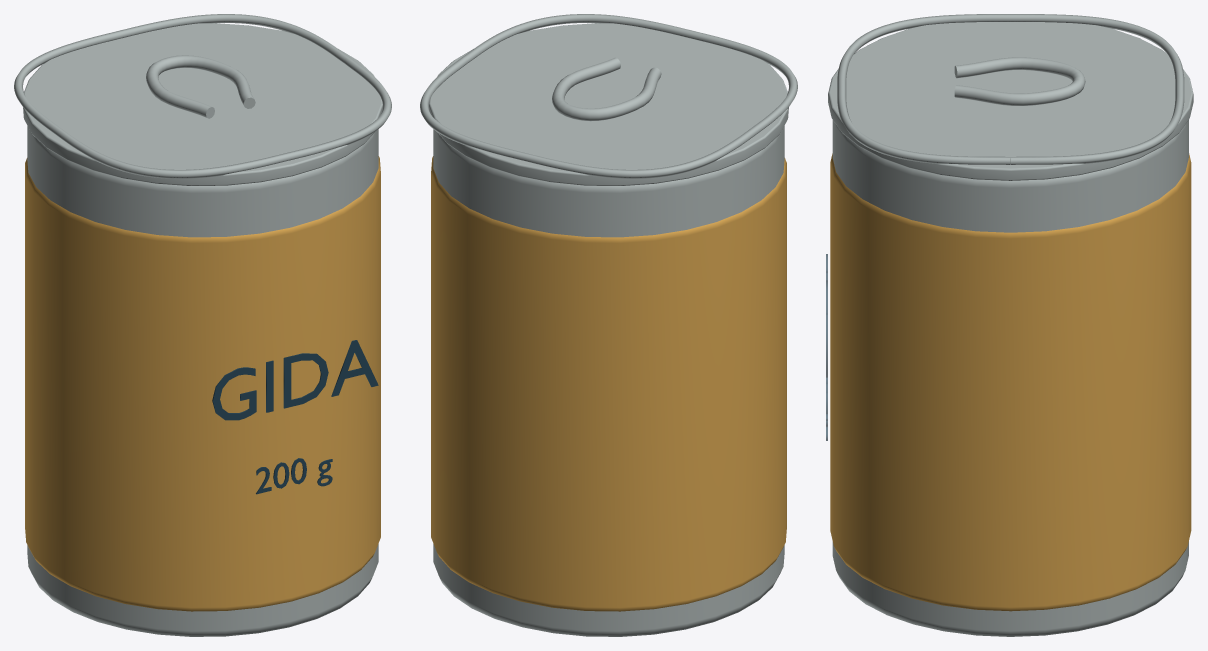
Rendered from FoodCan.fbx.
3 renders of one model, left to right at view 1: azimuth 30°, elevation 25°; view 2: azimuth 150°, elevation 25°; view 3: azimuth 270°, elevation 25°, orthographic.
Visible parts, largest first — view 1: Surface_KKTC_Ochre, Surface_KKTC_Metal, Surface_KKTC_BlueInk; view 2: Surface_KKTC_Ochre, Surface_KKTC_Metal; view 3: Surface_KKTC_Ochre, Surface_KKTC_Metal.
Part boxes in pixels (<box>): Surface_KKTC_Ochre: <box>25,156,380,611</box>; Surface_KKTC_Metal: <box>14,14,391,636</box>; Surface_KKTC_BlueInk: <box>212,340,378,494</box>; Surface_KKTC_Ochre: <box>431,156,786,611</box>; Surface_KKTC_Metal: <box>420,14,797,636</box>; Surface_KKTC_Ochre: <box>830,153,1191,611</box>; Surface_KKTC_Metal: <box>828,14,1193,636</box>.
Size of the model in its own units: 8 by 11.83 by 8.04.
